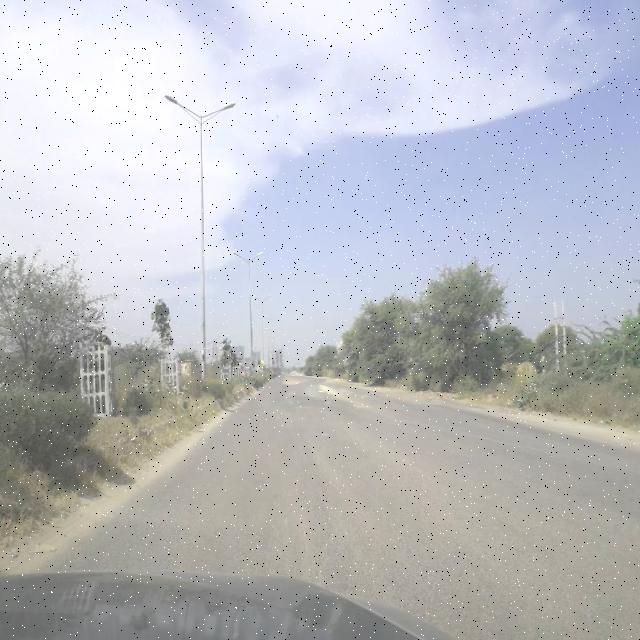D20: (246, 452, 521, 570)
